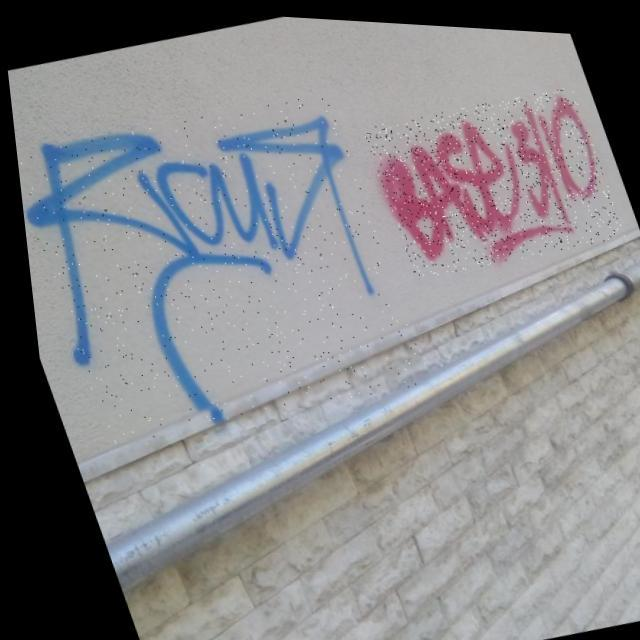-: (6, 72, 428, 459), (354, 68, 626, 284)
